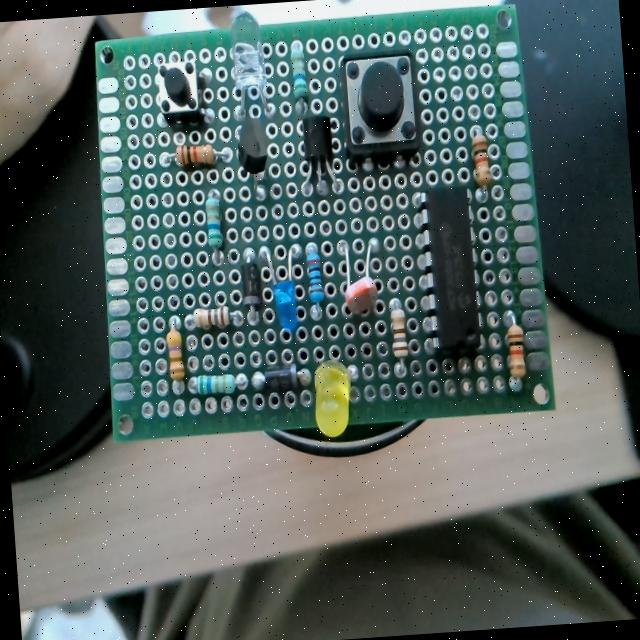IC: (410, 177, 490, 356)
cds: (332, 234, 384, 320)
diode: (238, 250, 262, 322), (250, 364, 308, 392)
led: (224, 6, 278, 117), (310, 351, 358, 441), (263, 242, 302, 336)
resistor: (203, 190, 226, 266), (289, 39, 310, 118), (506, 314, 526, 379), (174, 142, 216, 170), (471, 132, 492, 187), (166, 324, 185, 381), (192, 372, 236, 396), (190, 306, 233, 330), (306, 249, 324, 306), (389, 306, 408, 358)
switch: (338, 50, 419, 160), (155, 59, 202, 126)
transistor: (296, 114, 344, 199), (232, 115, 276, 199)
